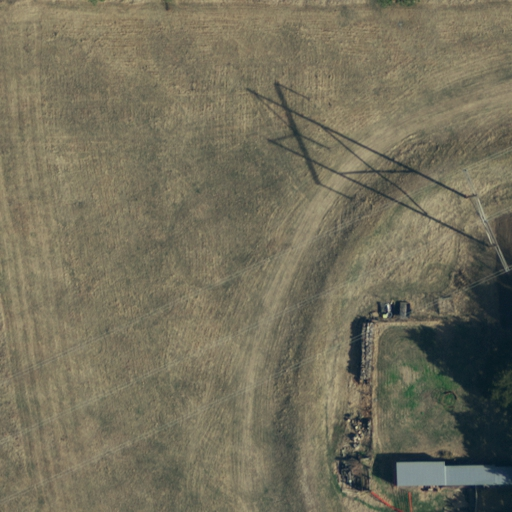TT: (467, 192, 509, 275)
